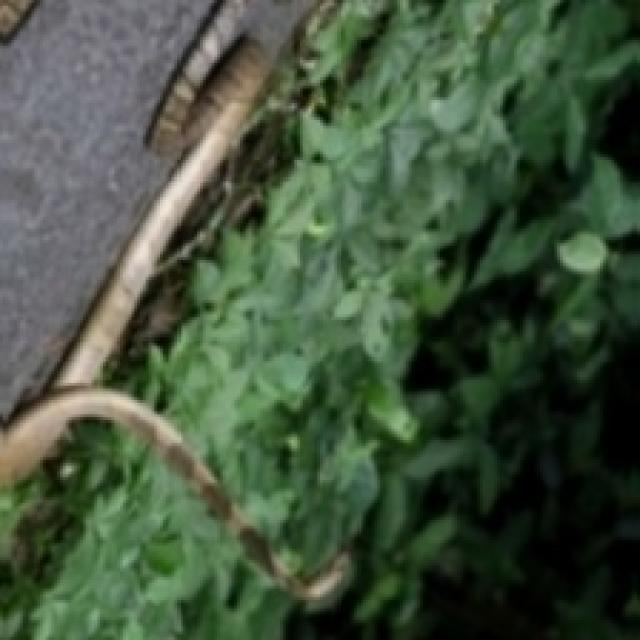king cobra: (0, 0, 346, 600)
